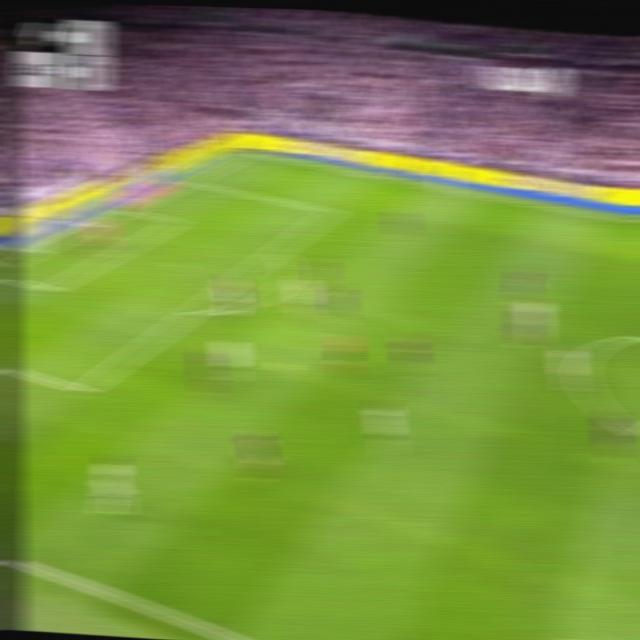bigarea_bottom_inner: (73, 378, 95, 400)
bigarea_top_inner: (321, 204, 339, 218)
bigarea_top_outter: (181, 174, 198, 185)
bottom_arc_area_intersection: (183, 303, 203, 320)
smallarea_bottom_inner: (39, 279, 61, 298)
smallarea_top_inner: (168, 216, 183, 226)
top_arc_area_intersection: (267, 242, 286, 257)
